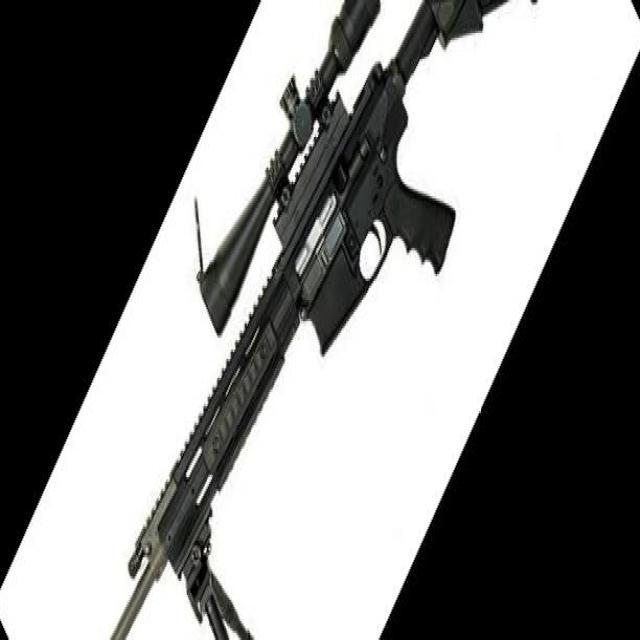weapon: (111, 0, 540, 640)
